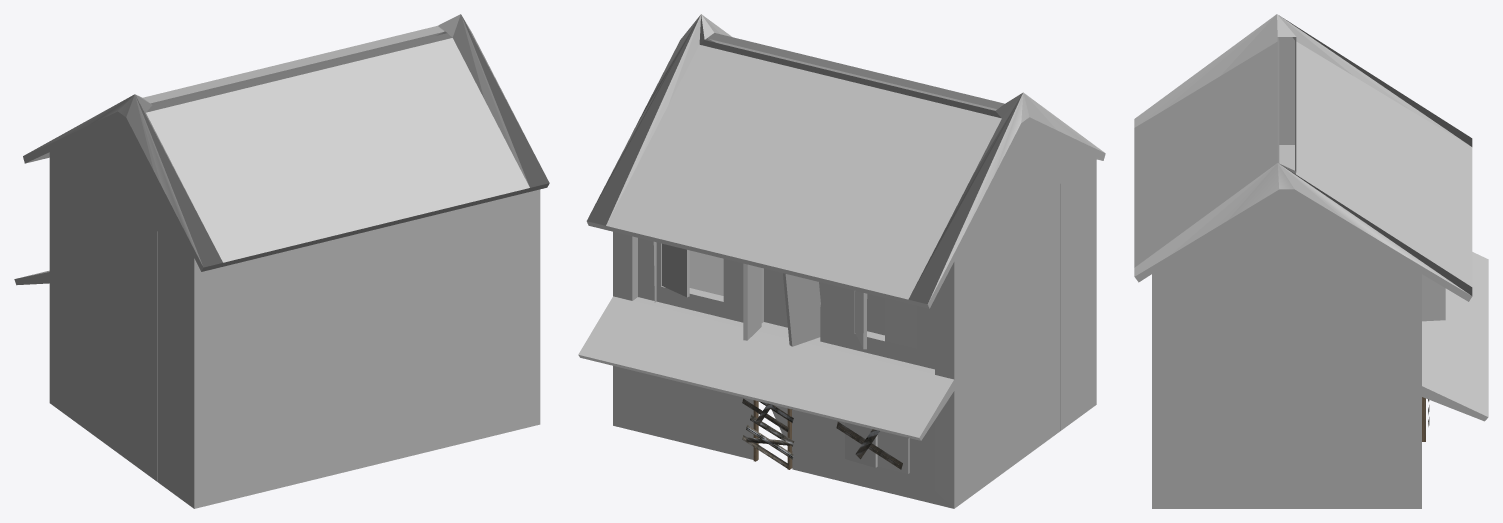
The model's file is Small_House_LOD2.FBX.
3 views of the same model, side by side, from view 1: azimuth 30°, elevation 25°; view 2: azimuth 150°, elevation 25°; view 3: azimuth 270°, elevation 25° (orthographic). The views are drawn at different scales.
Parts seen in each view (by area): view 1: Keo002L2; view 2: Keo002L2, Old_DoorPlank_004L2; view 3: Keo002L2.
Part boxes in pixels (x1,y1,x2,y2): Keo002L2: (14,14,549,508); Keo002L2: (578,14,1105,508); Old_DoorPlank_004L2: (742,398,902,469); Keo002L2: (1134,14,1488,508).
Size of the model in its own units: 46.48 by 46.77 by 44.
